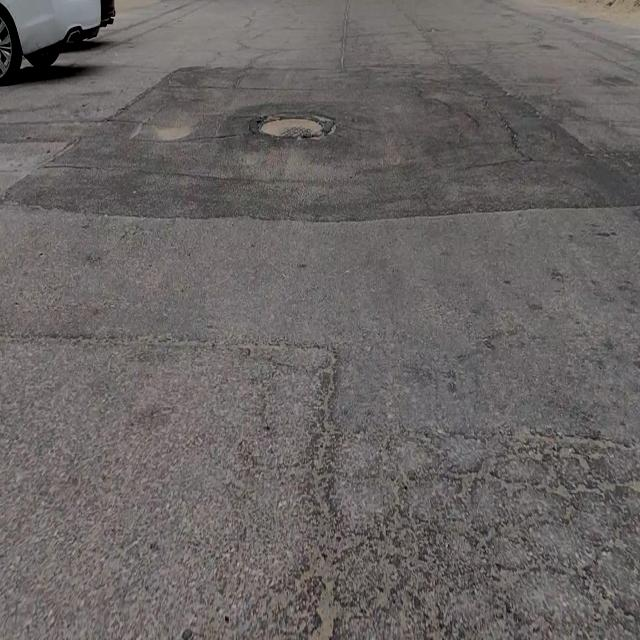Potholes: (253, 116, 331, 145)
